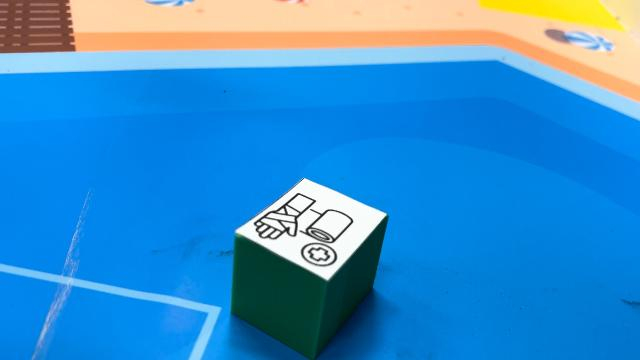bandage: (230, 177, 388, 359)
